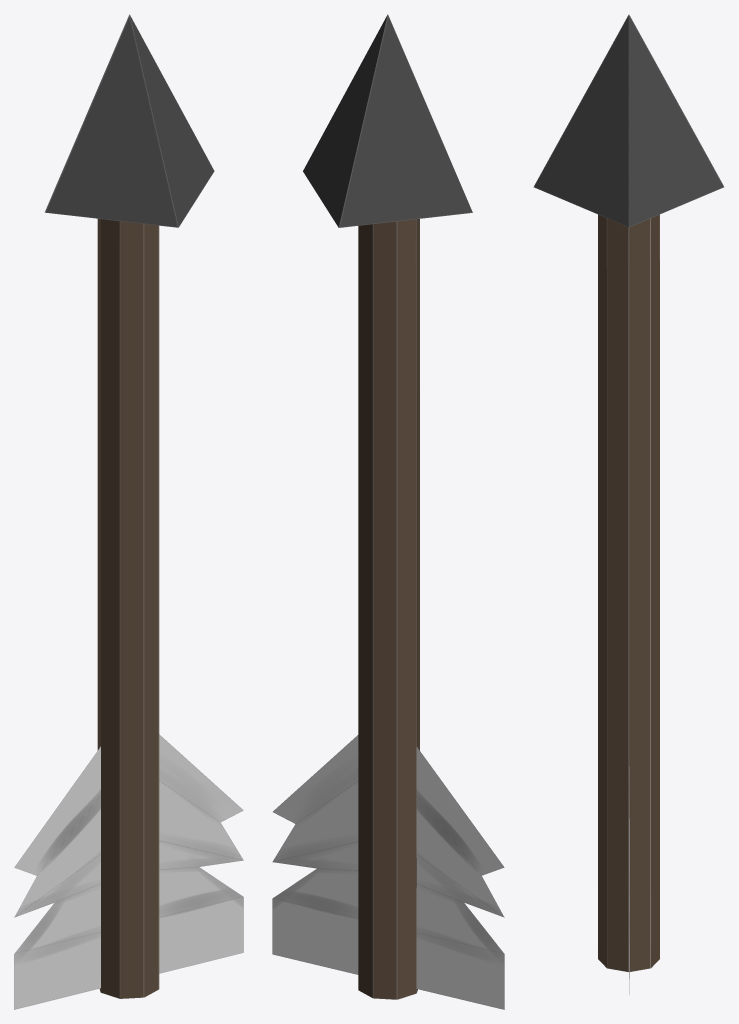
File: ase.fbx
The picture shows the model from 3 angles, left to right: view 1: azimuth 30°, elevation 25°; view 2: azimuth 150°, elevation 25°; view 3: azimuth 270°, elevation 25°; orthographic projection. The views are drawn at different scales.
Visible parts, largest first — view 1: pCylinder2; view 2: pCylinder2; view 3: pCylinder2.
Boxes of the visible parts, left/top/right/bottom form: pCylinder2: left=14, top=14, right=243, bottom=1009; pCylinder2: left=272, top=14, right=504, bottom=1009; pCylinder2: left=533, top=14, right=724, bottom=994.
Size of the model in its own units: 2.16 by 8.7 by 1.59.
